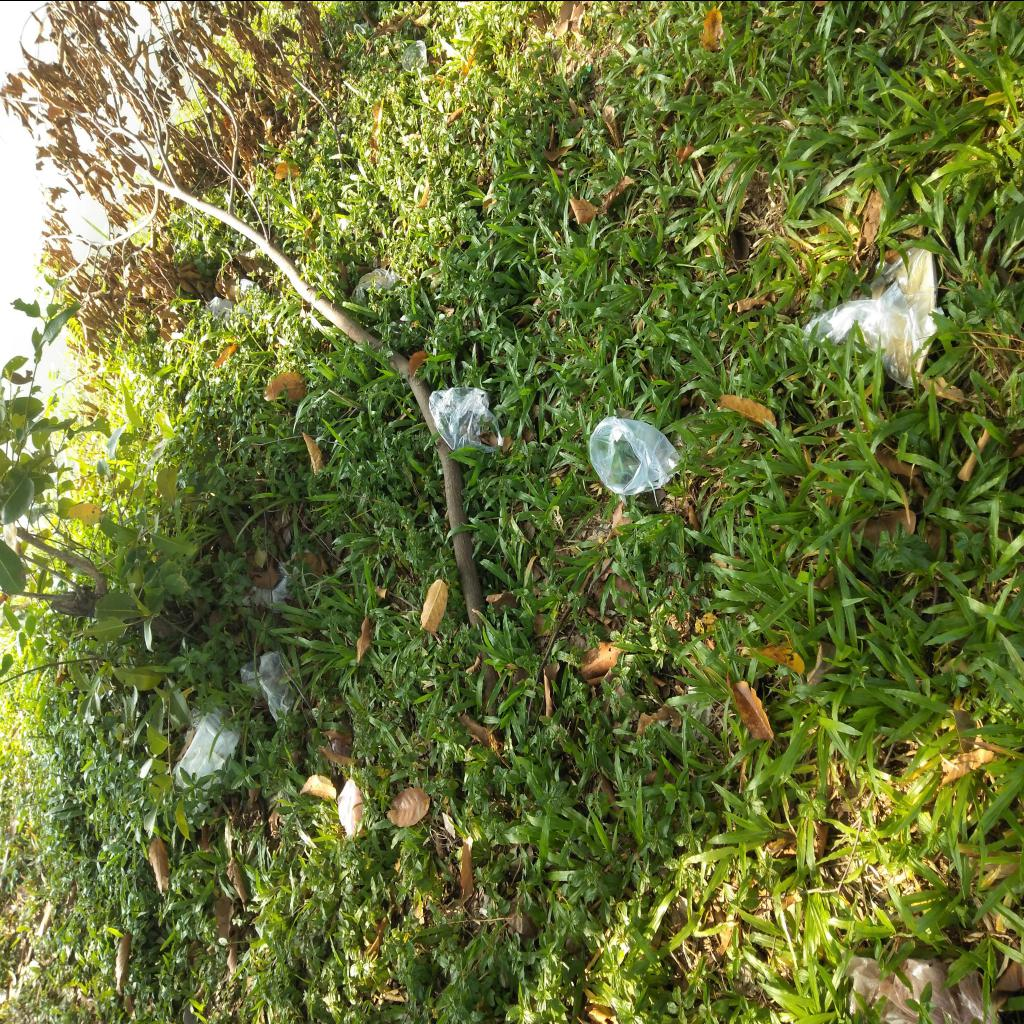Other plastic bottle: (353, 22, 367, 35)
Plastic film: (802, 248, 946, 388), (844, 953, 984, 1022), (590, 416, 678, 494), (172, 704, 242, 786), (429, 386, 503, 452), (240, 651, 294, 722), (242, 557, 294, 609), (205, 280, 255, 332), (352, 268, 402, 305), (338, 775, 362, 839)
Plastic lid: (402, 39, 428, 71)
